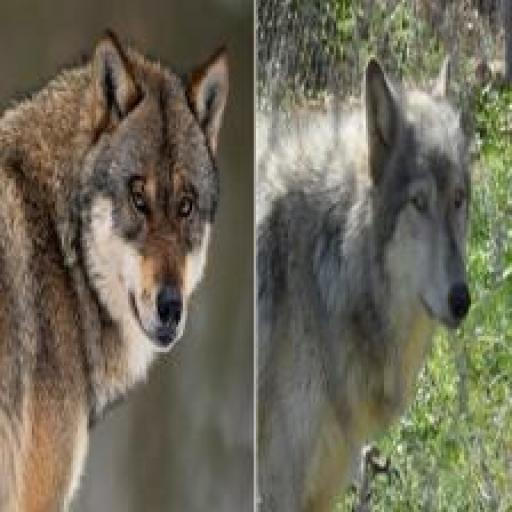wolf: (0, 7, 233, 511), (258, 16, 480, 512)
